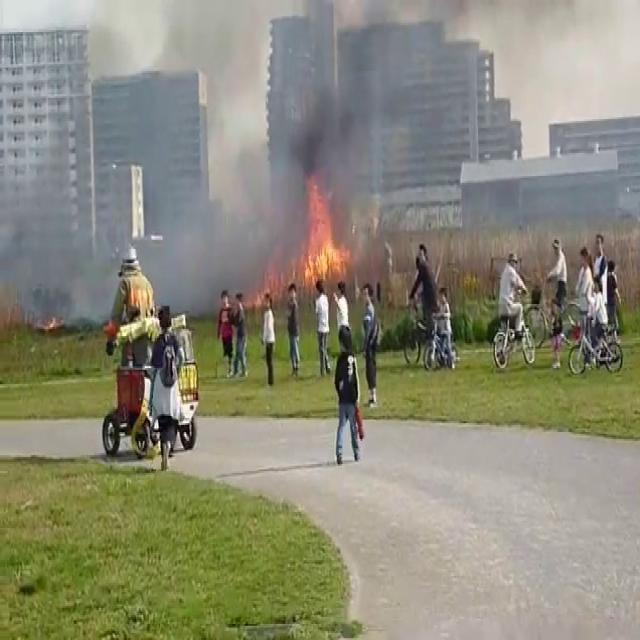Fire: (296, 178, 352, 290)
Smoke: (143, 0, 483, 317)
